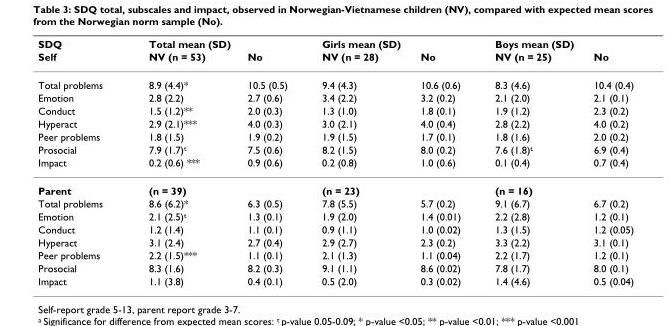table: (37, 37, 633, 286)
table column: (125, 37, 225, 286), (303, 37, 398, 286), (477, 37, 571, 286), (37, 37, 125, 286), (398, 37, 477, 286), (225, 37, 303, 286), (571, 37, 633, 286)
table column header: (37, 37, 633, 70)
table row: (37, 49, 633, 70), (37, 175, 633, 196), (37, 70, 633, 90), (37, 155, 633, 175), (37, 90, 633, 103), (37, 103, 633, 116), (37, 116, 633, 129), (37, 129, 633, 142), (37, 142, 633, 155), (37, 196, 633, 209), (37, 209, 633, 222), (37, 222, 633, 235), (37, 235, 633, 248), (37, 248, 633, 261), (37, 261, 633, 274), (37, 37, 633, 49), (37, 274, 633, 286)
table spanning cell: (37, 37, 125, 70), (125, 37, 303, 49), (303, 37, 477, 49), (477, 37, 633, 49)
